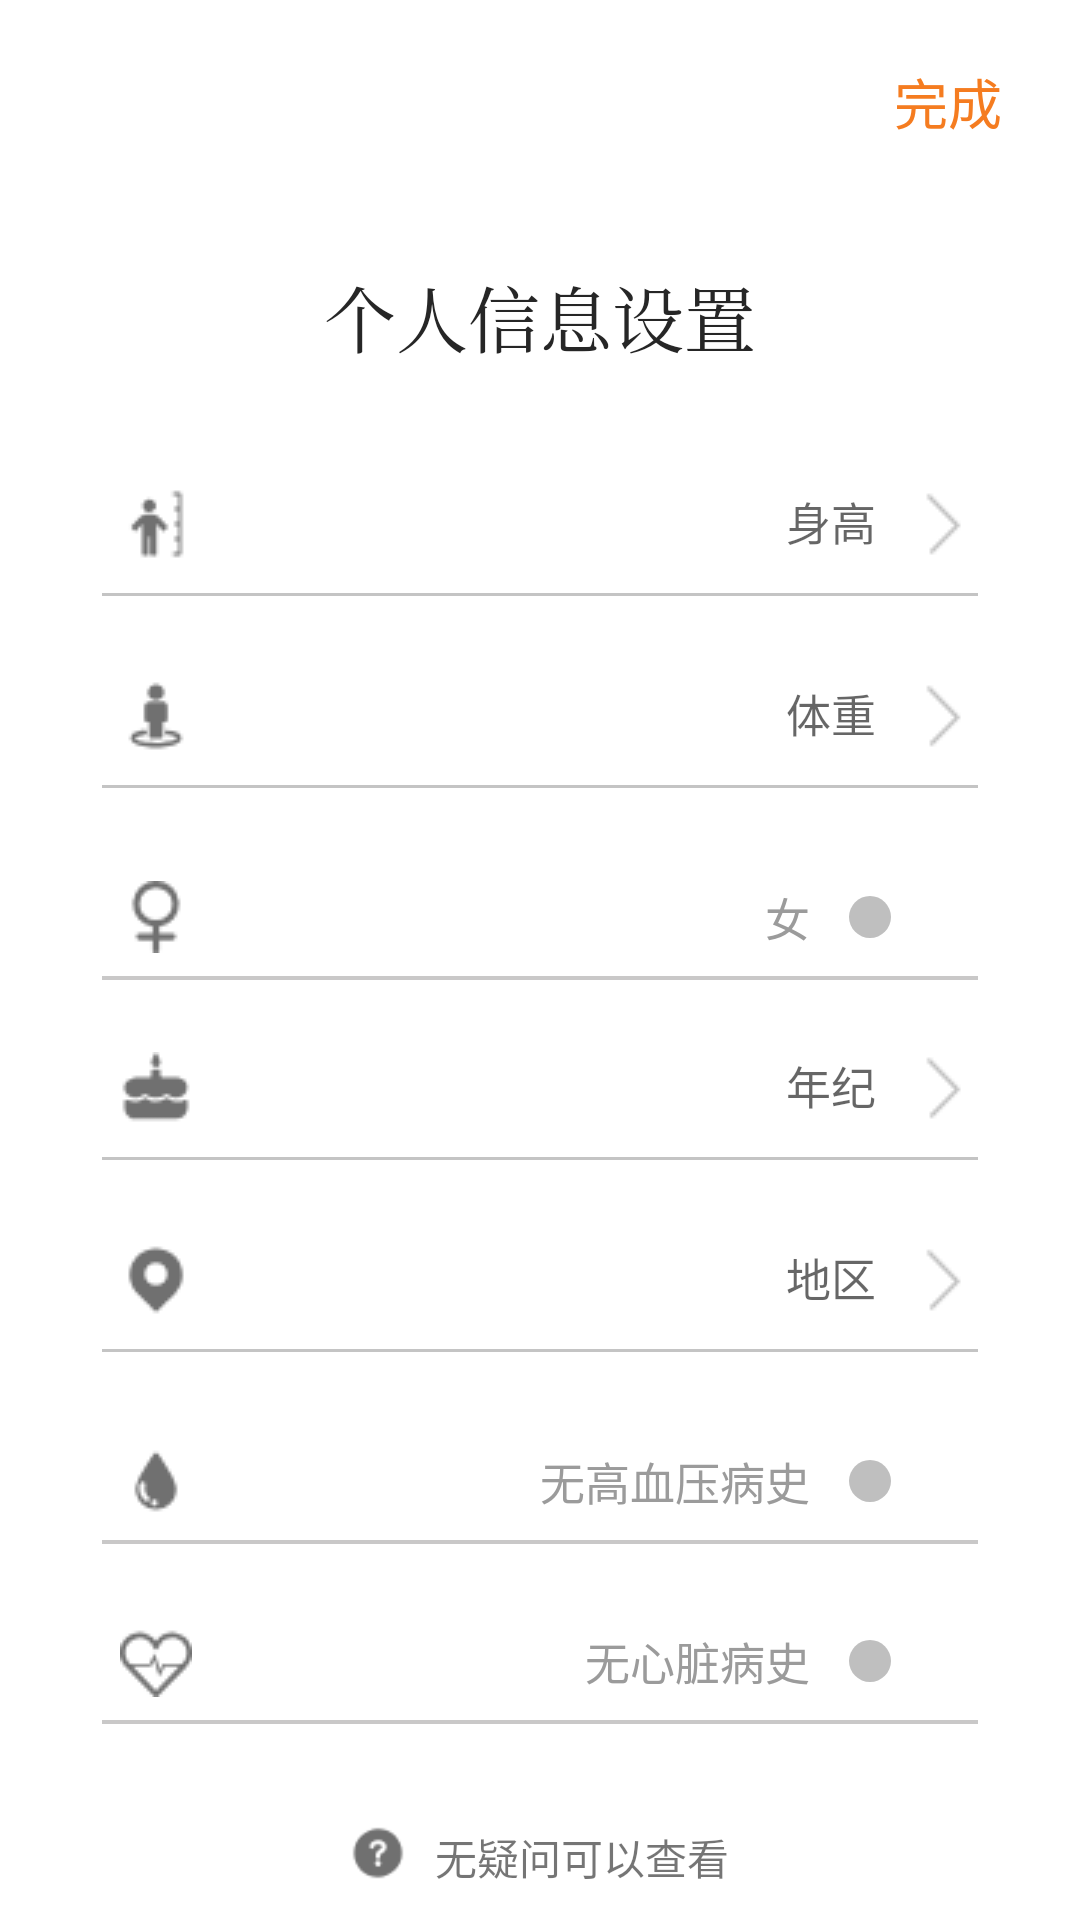

Point at icon controls on the screen. Image size 1080×1920, points as (x,y).
heart disease: (156,1664)
high blood pressure: (156,1481)
question: (378,1853)
sex: (156,917)
